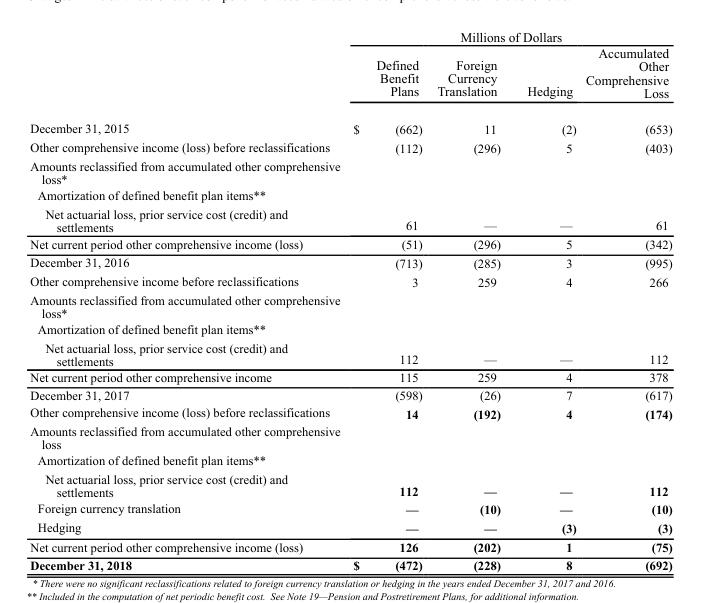table: (29, 28, 671, 571)
table column: (29, 28, 340, 571), (580, 28, 671, 571), (340, 28, 429, 571), (429, 28, 513, 571), (513, 28, 580, 571)
table column header: (29, 28, 671, 110)
table projected row header: (29, 290, 671, 320), (29, 157, 671, 186), (29, 422, 671, 451), (29, 186, 671, 204), (29, 320, 671, 338), (29, 451, 671, 469)
table row: (29, 44, 671, 110), (29, 204, 671, 235), (29, 290, 671, 320), (29, 338, 671, 368), (29, 469, 671, 499), (29, 157, 671, 186), (29, 422, 671, 451), (29, 110, 671, 138), (29, 138, 671, 157), (29, 252, 671, 271), (29, 271, 671, 290), (29, 403, 671, 422), (29, 499, 671, 518), (29, 518, 671, 537), (29, 186, 671, 204), (29, 320, 671, 338), (29, 385, 671, 403), (29, 451, 671, 469), (29, 537, 671, 555), (29, 235, 671, 252), (29, 368, 671, 385), (29, 28, 671, 44), (29, 555, 671, 571)
table spanning cell: (340, 28, 671, 44)
